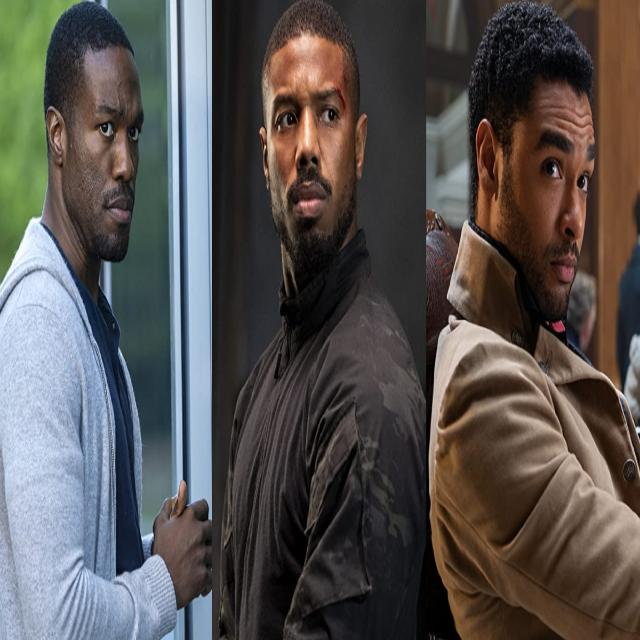sem_oculos: (480, 117, 596, 205), (43, 84, 148, 162), (263, 88, 369, 143)
